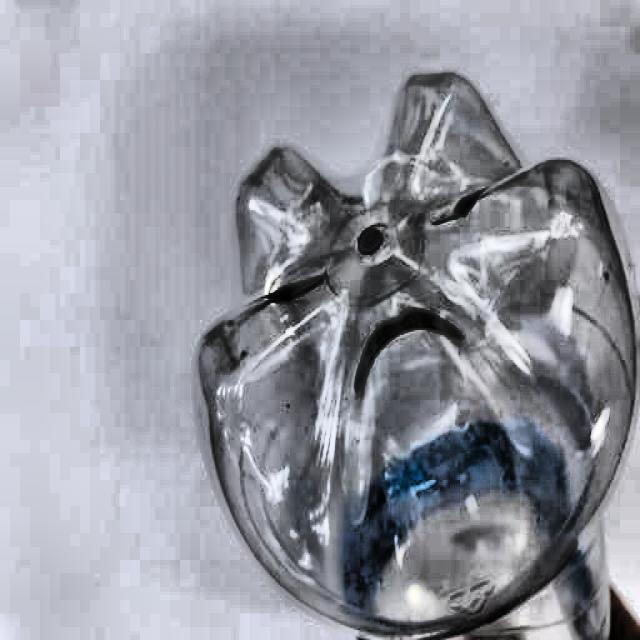plastic: (195, 68, 640, 640)
